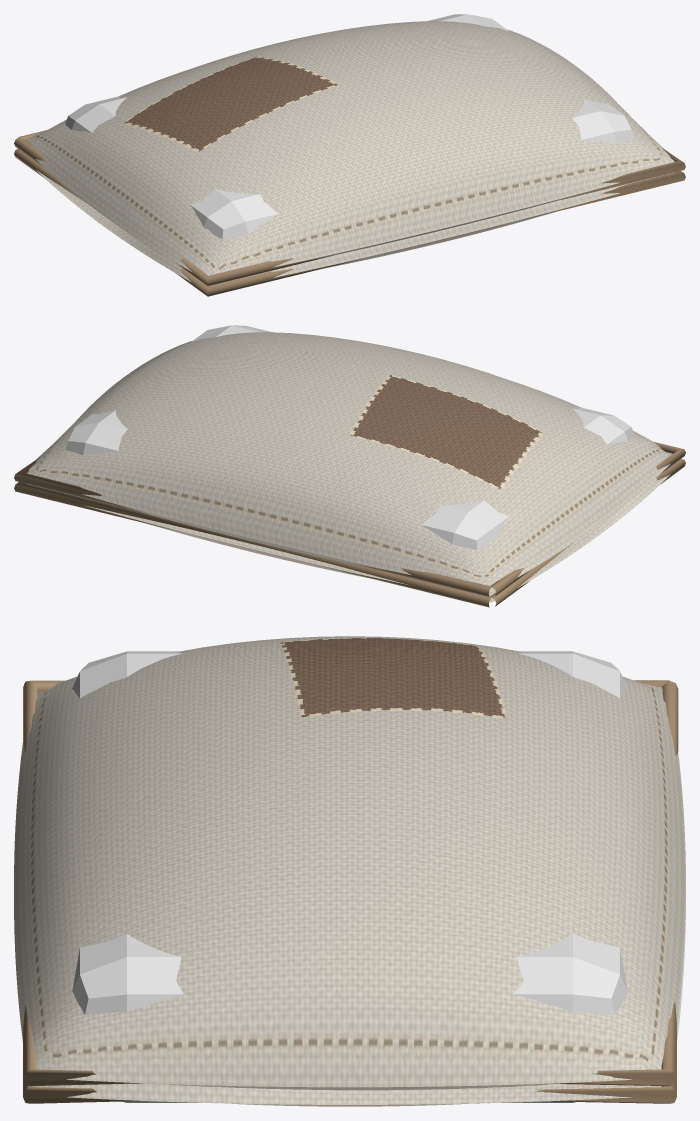
The model's file is small-pillow.glb.
3 views of the same model, one above another, from view 1: azimuth 30°, elevation 25°; view 2: azimuth 150°, elevation 25°; view 3: azimuth 270°, elevation 25° (orthographic). The views are drawn at different scales.
Visible parts, largest first — view 1: flat pillow top, col:pillow, pressed pillow top, pressed pillow seam, flat pillow seam, pressed pillow underside, flat pillow underside; view 2: flat pillow top, col:pillow, pressed pillow seam, flat pillow seam, pressed pillow top, flat pillow underside, pressed pillow underside; view 3: flat pillow top, col:pillow, pressed pillow top, flat pillow seam, pressed pillow seam, flat pillow underside.
Part boxes in pixels (box(x1,y1,x2,y2)): flat pillow top: box(25, 21, 674, 275); col:pillow: box(65, 14, 634, 239); pressed pillow top: box(36, 170, 674, 286); pressed pillow seam: box(14, 148, 685, 296); flat pillow seam: box(14, 130, 685, 285); pressed pillow underside: box(298, 206, 571, 272); flat pillow underside: box(282, 188, 599, 265); flat pillow top: box(27, 332, 672, 591); col:pillow: box(65, 325, 634, 550); pressed pillow seam: box(14, 459, 685, 607); flat pillow seam: box(14, 442, 685, 596); pressed pillow top: box(27, 474, 670, 602); flat pillow underside: box(92, 497, 401, 573); pressed pillow underside: box(119, 515, 382, 579); flat pillow top: box(14, 636, 685, 1087); col:pillow: box(72, 651, 628, 1102); pressed pillow top: box(14, 902, 685, 1104); flat pillow seam: box(23, 680, 678, 1086); pressed pillow seam: box(23, 1080, 676, 1103); flat pillow underside: box(144, 1082, 579, 1090).
Size of the model in its own units: 1.35 by 0.3445 by 0.94.
Materials: 3 (1 with a texture image).
